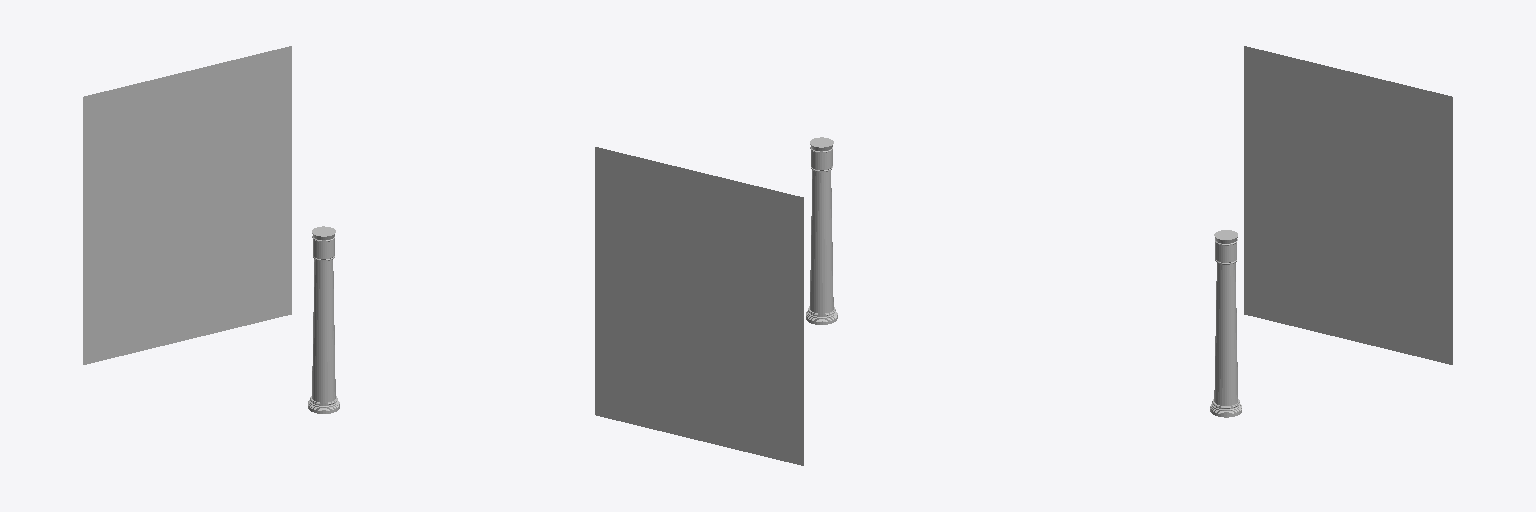
Rendered from pillar.obj.
3 renders of one model, left to right at view 1: azimuth 30°, elevation 25°; view 2: azimuth 150°, elevation 25°; view 3: azimuth 330°, elevation 25°, orthographic.
Visible parts, largest first — view 1: default; view 2: default; view 3: default.
Boxes of the visible parts, box(x1,y1,x2,y2) form: default: box(83, 46, 339, 413); default: box(595, 137, 837, 465); default: box(1210, 46, 1452, 417).
Size of the model in its own units: 48.06 by 59.02 by 54.79.